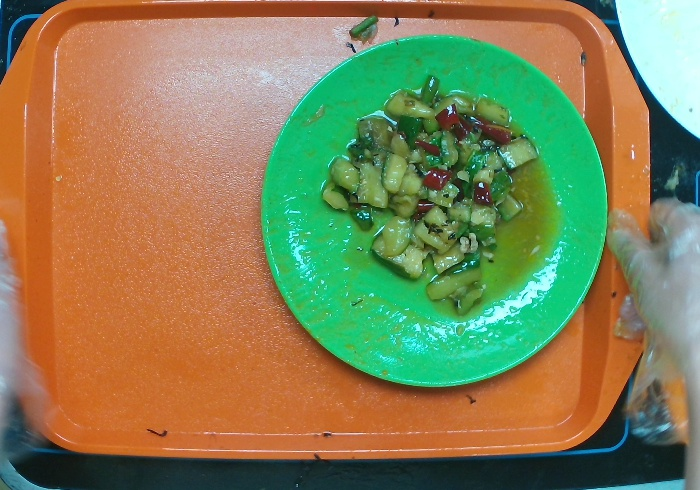HZYJPL-Lv_Se_Yuan_Pan: (252, 26, 613, 397)
